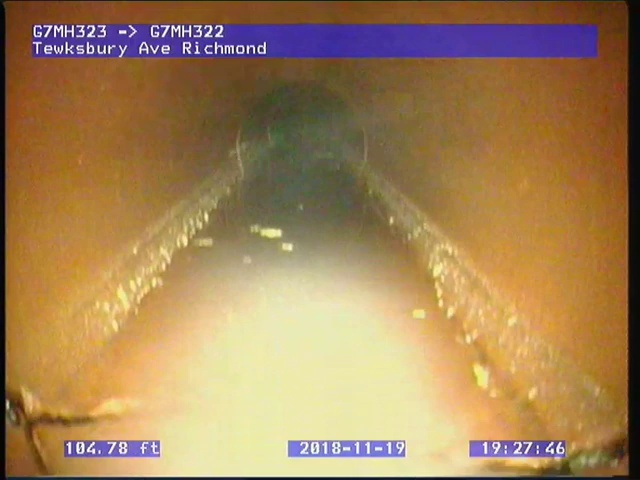crack: (5, 384, 129, 476), (480, 436, 628, 476)
